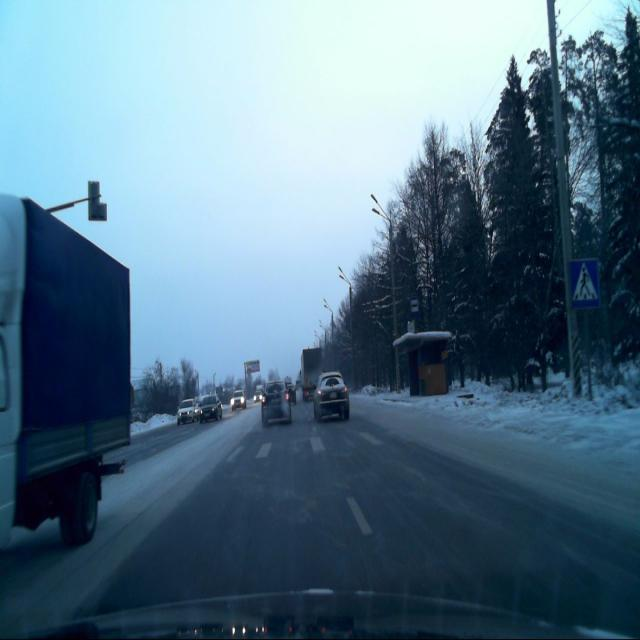object: (584, 312, 592, 404)
road sign: (568, 257, 601, 309), (410, 295, 419, 316)
